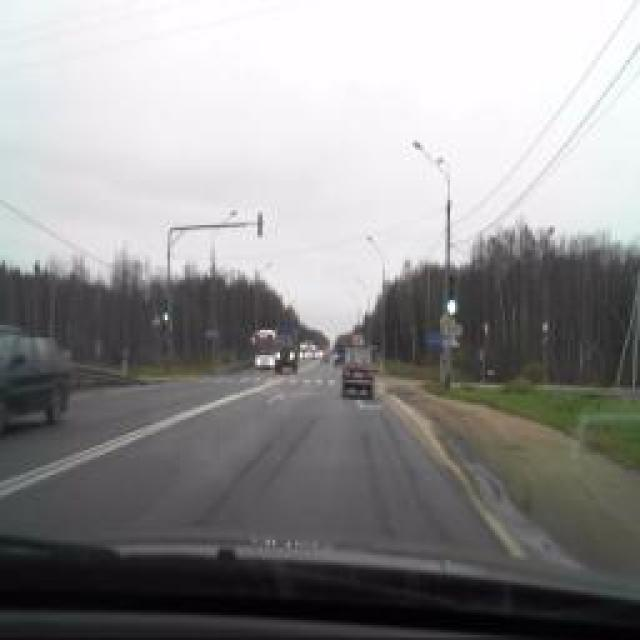sign: (151, 309, 161, 326)
